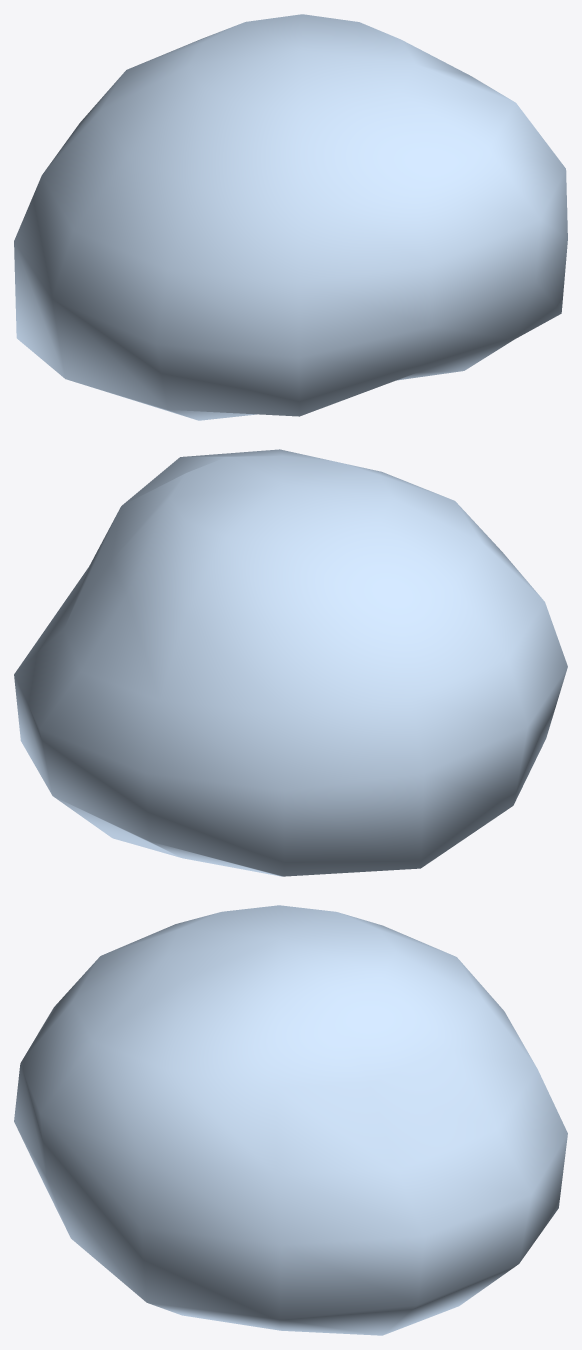
Rendered from hAsteroid3_coll.obj.
3 views of the same model, one above another, from view 1: azimuth 30°, elevation 25°; view 2: azimuth 150°, elevation 25°; view 3: azimuth 270°, elevation 25° (orthographic). The views are drawn at different scales.
Visible parts, largest first — view 1: sphere2; view 2: sphere2; view 3: sphere2.
Part boxes in pixels (x1=…): sphere2: x1=14, y1=14, x2=567, y2=420; sphere2: x1=14, y1=449, x2=567, y2=876; sphere2: x1=14, y1=905, x2=567, y2=1335.
Size of the model in its own units: 151 by 96.93 by 150.
